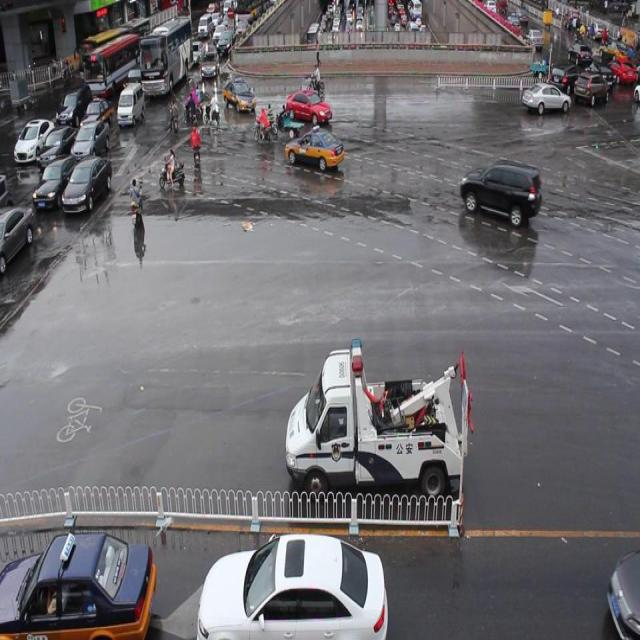bus: (285, 338, 464, 498)
car: (283, 126, 344, 171), (520, 79, 570, 115), (285, 87, 332, 125), (223, 77, 257, 115)
truck: (459, 156, 541, 226)
